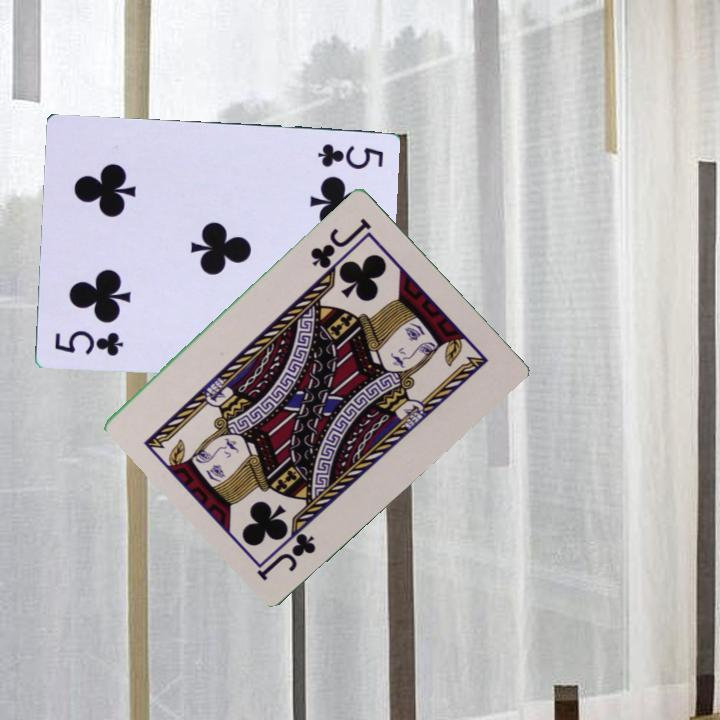5c: (50, 327, 126, 359), (313, 141, 386, 173)
Jc: (307, 213, 374, 279), (253, 517, 319, 583)
